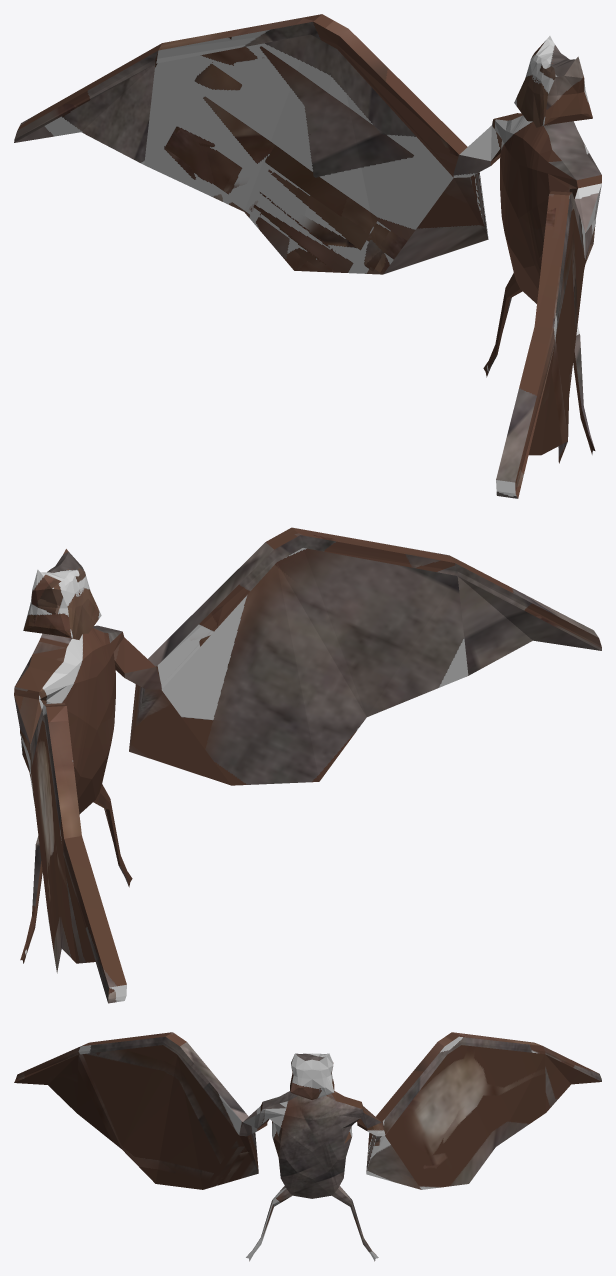
The model's file is Enemigo19.obj.
3 views of the same model, one above another, from view 1: azimuth 30°, elevation 25°; view 2: azimuth 150°, elevation 25°; view 3: azimuth 270°, elevation 25° (orthographic). The views are drawn at different scales.
Parts seen in each view (by area): view 1: Plano; view 2: Plano; view 3: Plano.
Part boxes in pixels (x1,y1,x2,y2): Plano: [14, 14, 601, 498]; Plano: [14, 527, 601, 1003]; Plano: [14, 1032, 601, 1261].
Bounding box in the file's own units: 0.7091 × 0.7578 × 1.87.
1 material, 1 textured.
